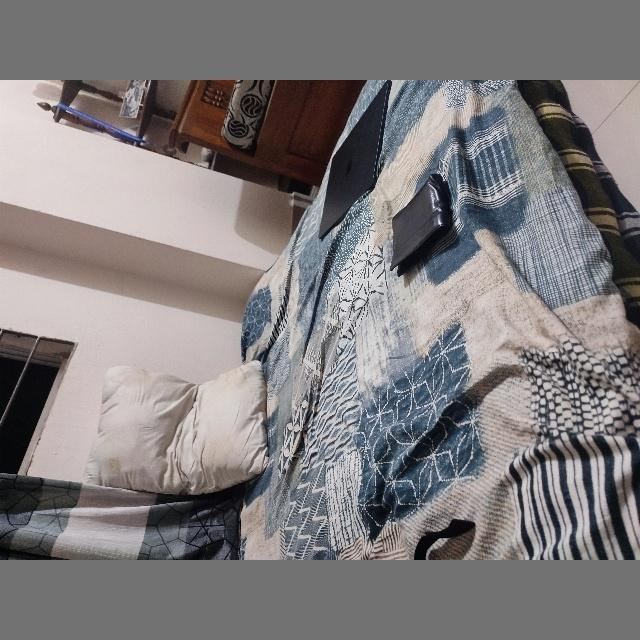Wallet: (390, 175, 450, 278)
